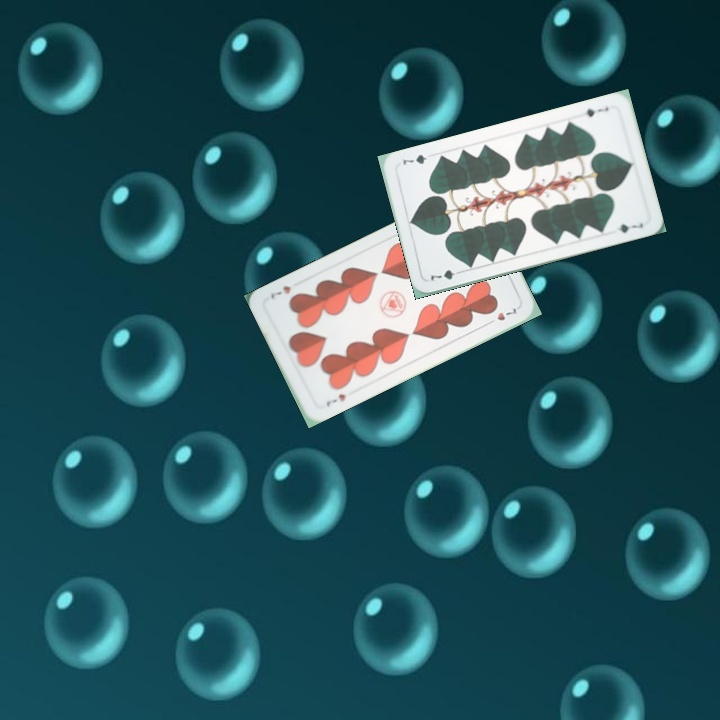G7: (426, 266, 465, 284), (581, 103, 611, 120)
H7: (322, 390, 348, 409)
